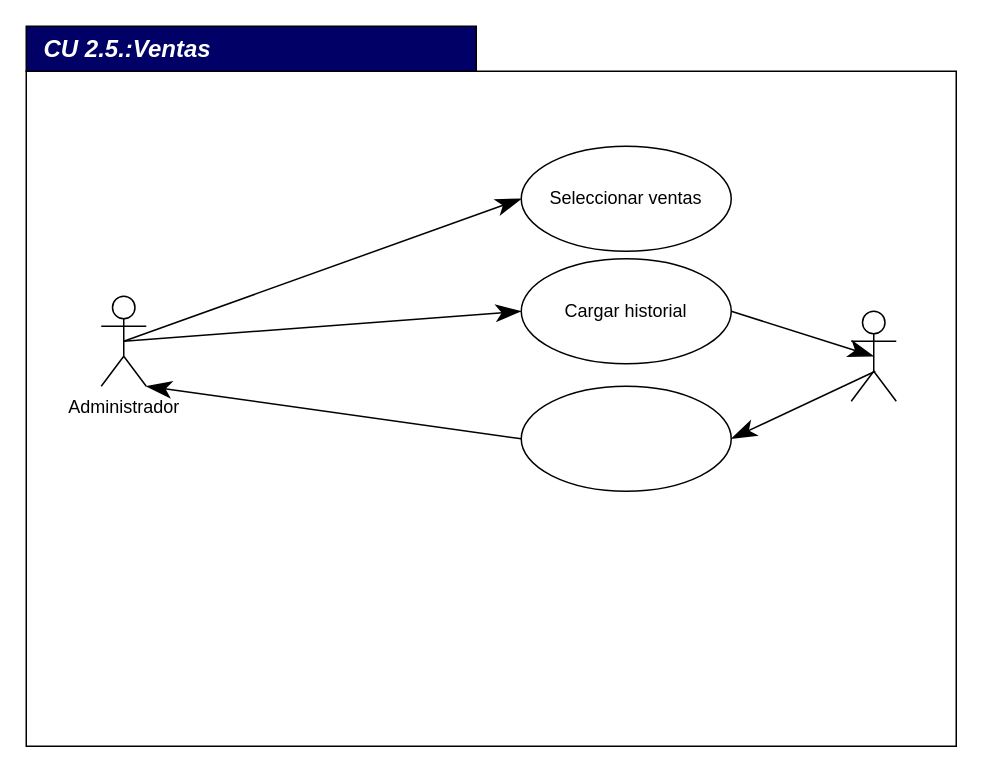
Image size: 983x773. Some labels were removed from this diagram. The shapes that lost their labels are listed below. From the top down, each one's box as (x1, y1, x2, y2) in pixels, then its label:
(850, 310, 896, 401): Sistema
(520, 385, 731, 491): Visualizar ventas
